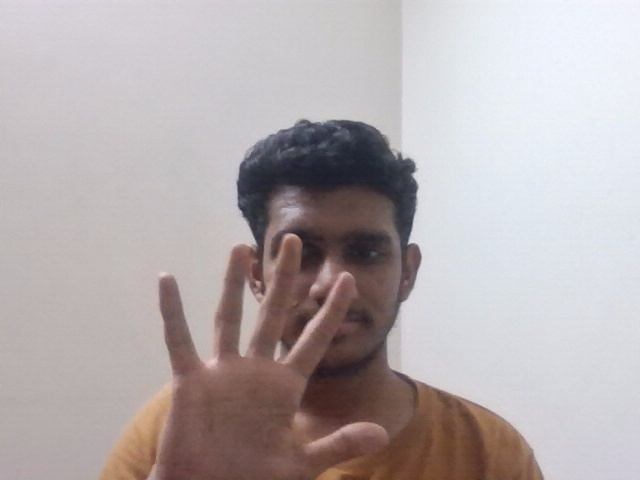hello: (132, 233, 397, 472)
